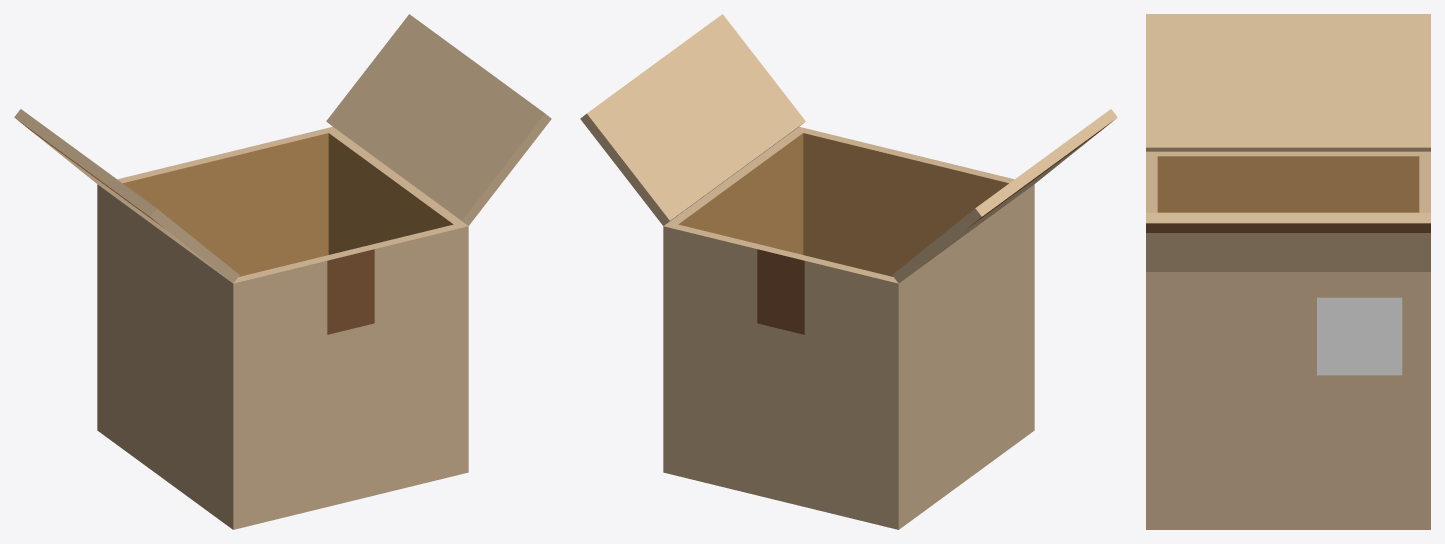
File: props_package-box-open.fbx
3 renders of one model, left to right at view 1: azimuth 30°, elevation 25°; view 2: azimuth 150°, elevation 25°; view 3: azimuth 270°, elevation 25°, orthographic. The views are drawn at different scales.
Visible parts, largest first — view 1: props_package_box_open; view 2: props_package_box_open; view 3: props_package_box_open.
Boxes of the visible parts, x1,y1,x2,y2 form: props_package_box_open: (14, 14, 551, 529); props_package_box_open: (580, 14, 1117, 529); props_package_box_open: (1146, 14, 1430, 529).
Bounding box in the file's own units: 200 × 162 × 117.
